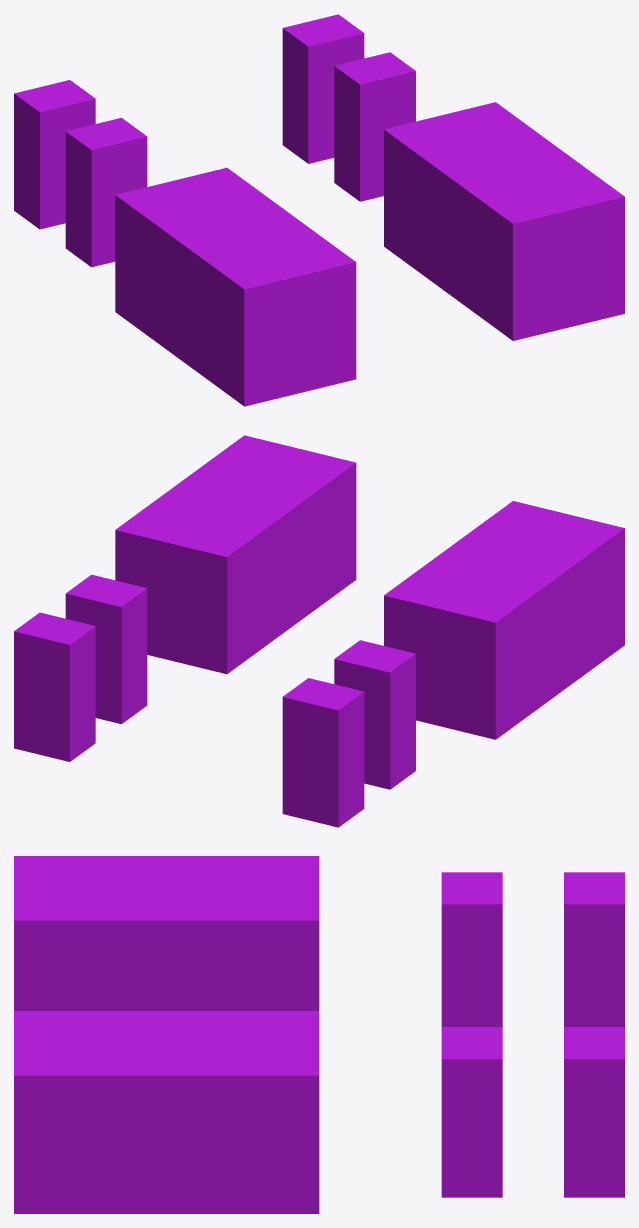
File: powerup_double_shot.fbx
3 views of the same model, one above another, from view 1: azimuth 30°, elevation 25°; view 2: azimuth 150°, elevation 25°; view 3: azimuth 270°, elevation 25° (orthographic). The views are drawn at different scales.
Visible parts, largest first — view 1: powerup_double_shot.001; view 2: powerup_double_shot.001; view 3: powerup_double_shot.001.
Part boxes in pixels (<box>): powerup_double_shot.001: <box>14,14,624,406</box>; powerup_double_shot.001: <box>14,435,624,827</box>; powerup_double_shot.001: <box>14,856,624,1213</box>.
Size of the model in its own units: 170 by 50 by 200.
